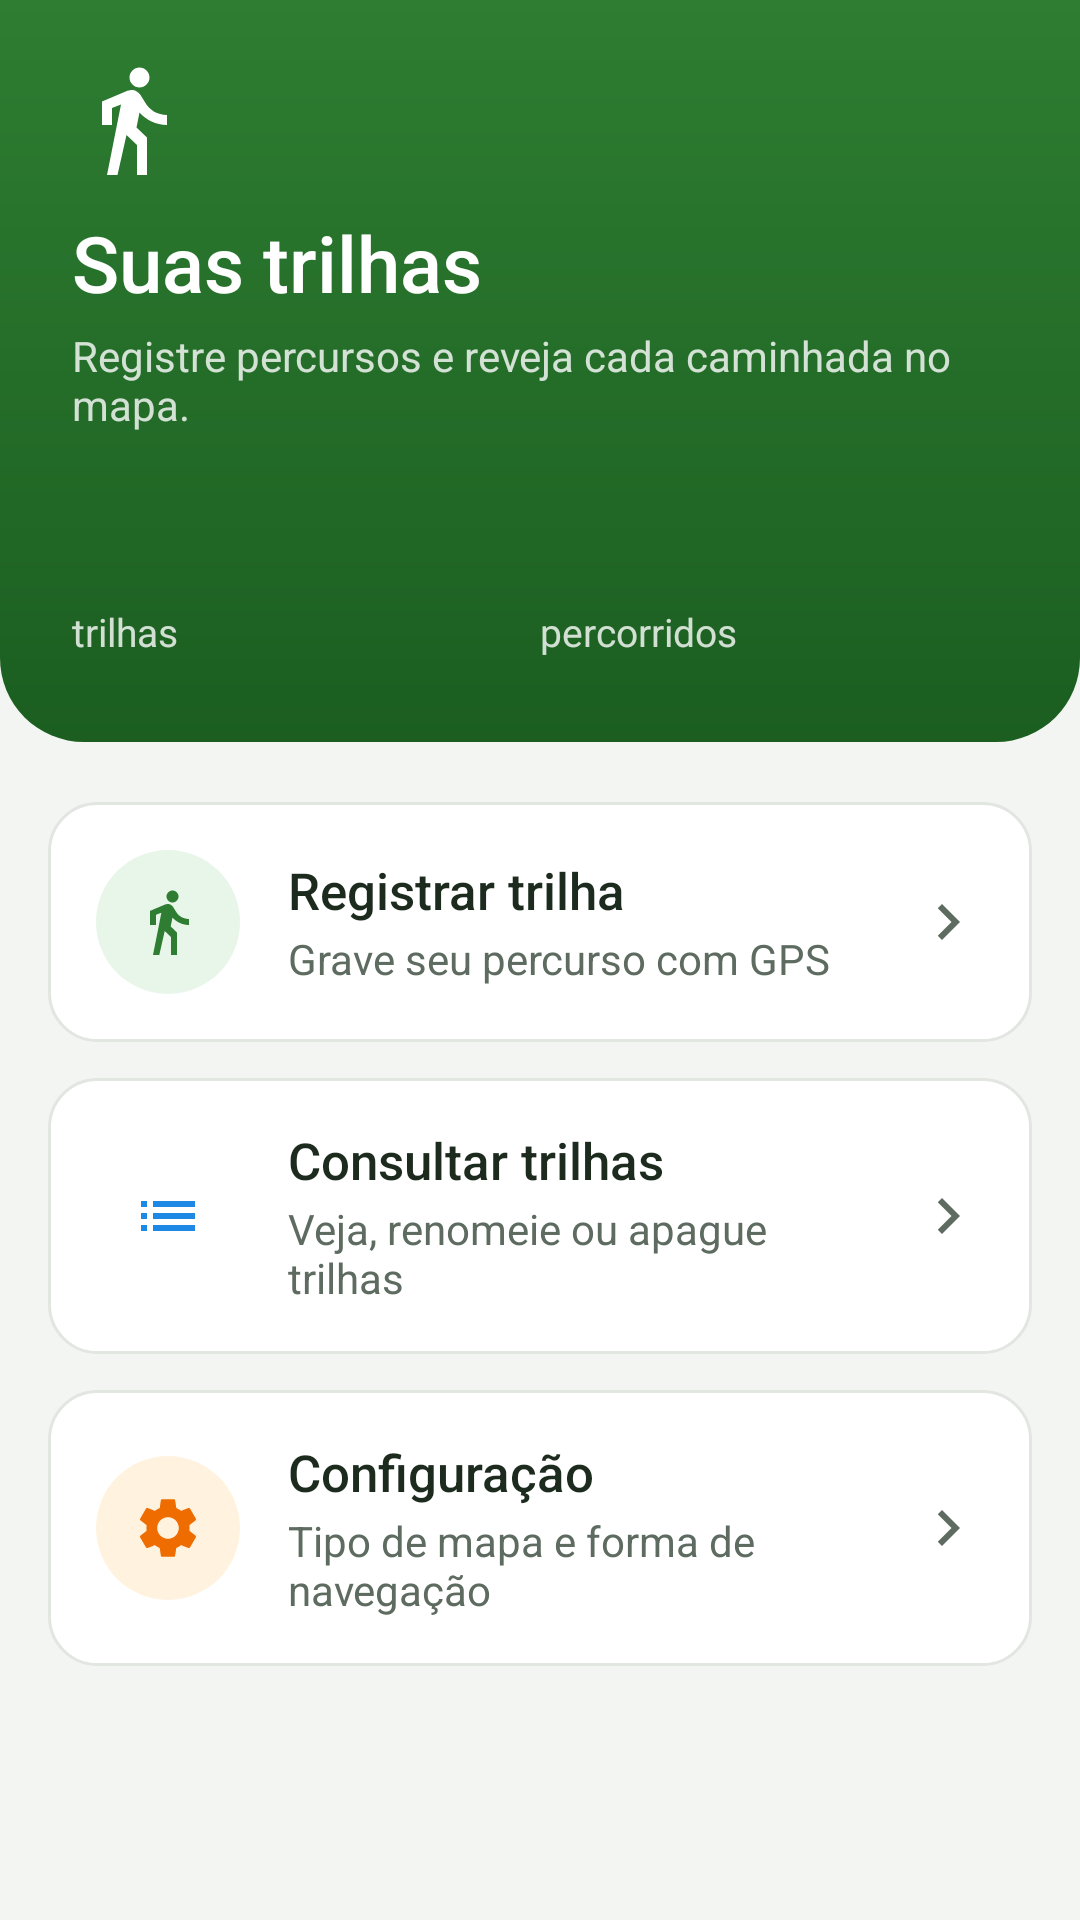

Screen size 1080px x 1920px. Icon name, then its box in pixels as (x1, y1, x2, y2):
configuracoes: (96, 1456, 240, 1600)
lista: (141, 1201, 195, 1231)
seta direita: (938, 904, 960, 940), (938, 1198, 960, 1234), (938, 1510, 960, 1546)
trilha branco: (102, 67, 167, 175)
